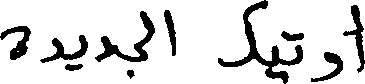أ: (343, 2, 363, 72)
ا: (163, 8, 175, 56)
ة: (0, 23, 30, 59)
ت: (282, 29, 304, 82)
ج: (126, 42, 149, 79)
د: (39, 36, 62, 63), (96, 34, 111, 62)
ك: (218, 0, 266, 77)
ل: (131, 9, 153, 44)
و: (311, 50, 341, 82)
ي: (265, 0, 284, 82), (64, 32, 87, 71)
